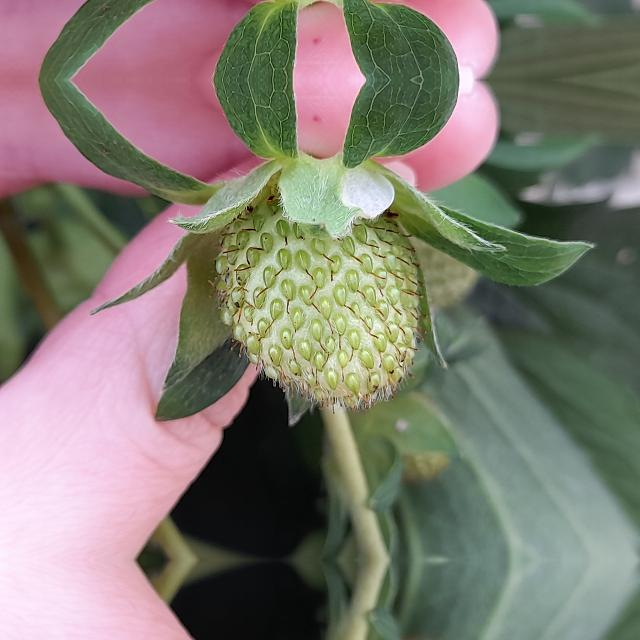Health_25: (207, 190, 427, 414)
